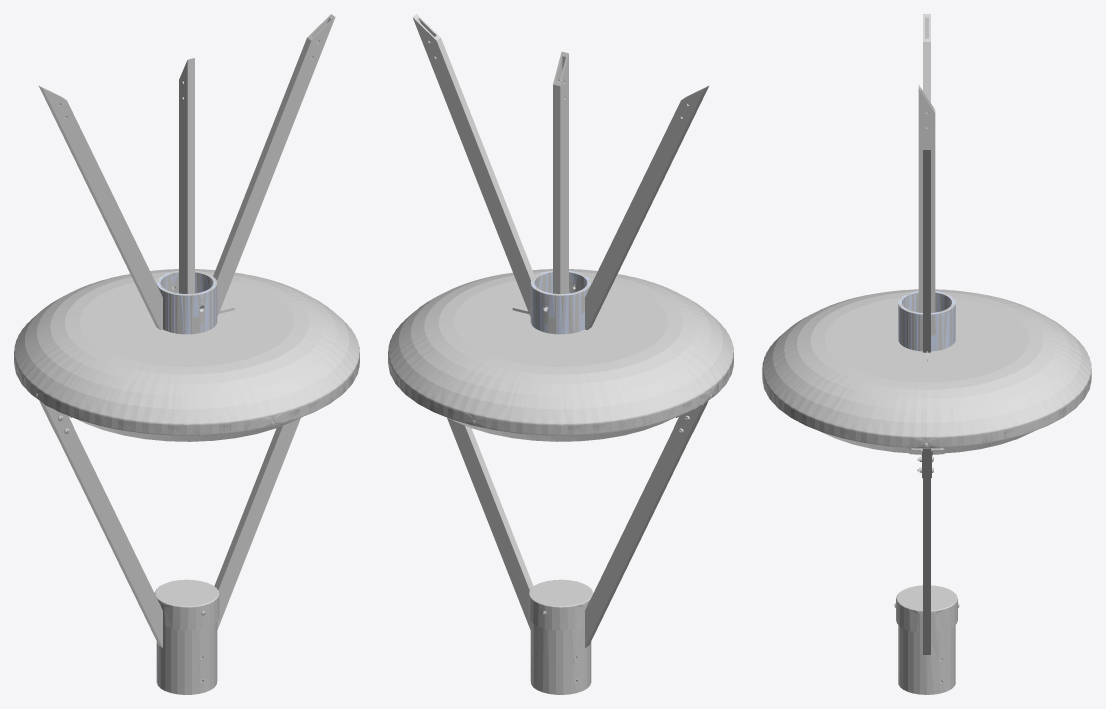
The model's file is drx-post-top.glb.
The picture shows the model from 3 angles, left to right: view 1: azimuth 30°, elevation 25°; view 2: azimuth 150°, elevation 25°; view 3: azimuth 270°, elevation 25°; orthographic projection. The views are drawn at different scales.
Bounding box in the file's own units: 0.508 × 1.02 × 0.508.
